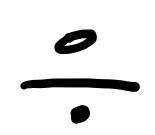div: (21, 31, 140, 124)
